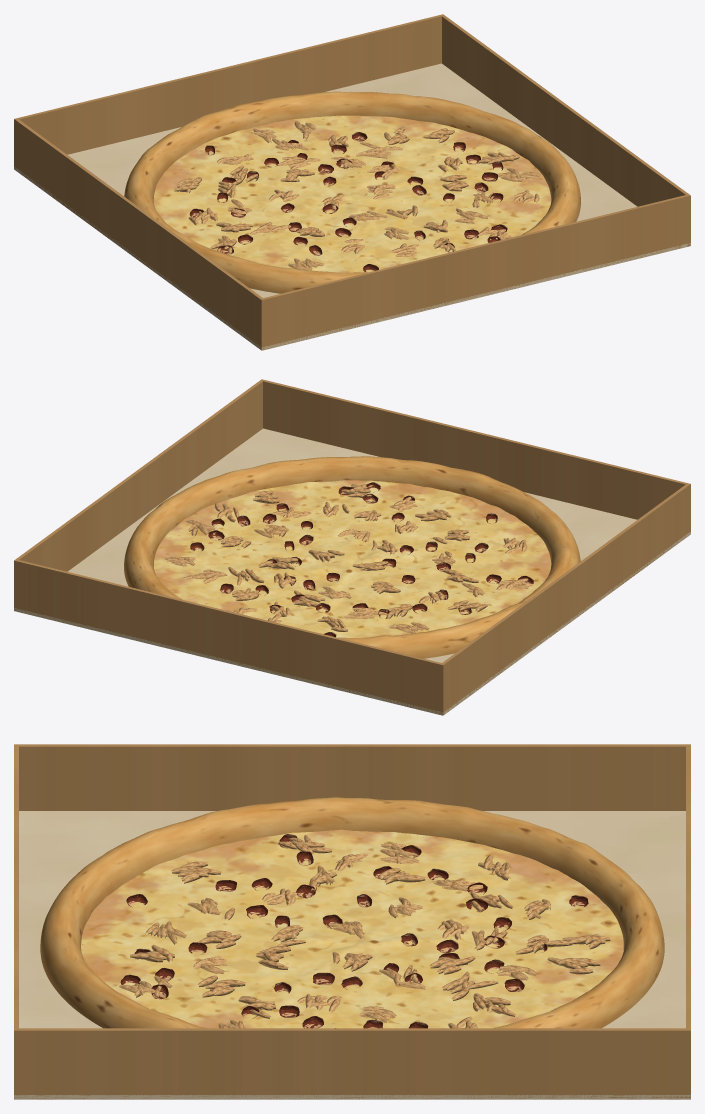
File: pizza-caixa-frango-bacon.glb
3 views of the same model, one above another, from view 1: azimuth 30°, elevation 25°; view 2: azimuth 150°, elevation 25°; view 3: azimuth 270°, elevation 25° (orthographic). The views are drawn at different scales.
Parts seen in each view (by area): view 1: pizza-caixa-frango-bacon; view 2: pizza-caixa-frango-bacon; view 3: pizza-caixa-frango-bacon.
Part boxes in pixels (x1,y1,x2,y2): pizza-caixa-frango-bacon: (14,14,690,350); pizza-caixa-frango-bacon: (14,379,690,715); pizza-caixa-frango-bacon: (14,744,690,1099).
Bounding box in the file's own units: 0.4 × 0.045 × 0.4.
Materials: 6 (6 with a texture image).
